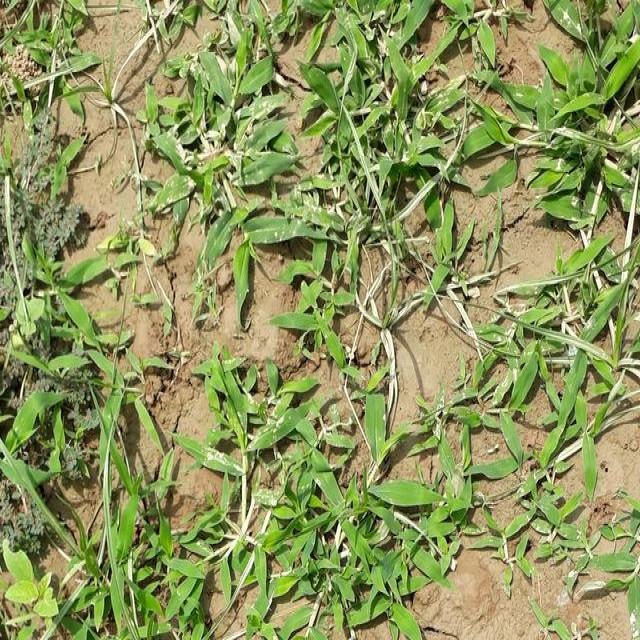weed: (137, 16, 640, 640), (0, 218, 116, 640), (6, 0, 102, 192)
